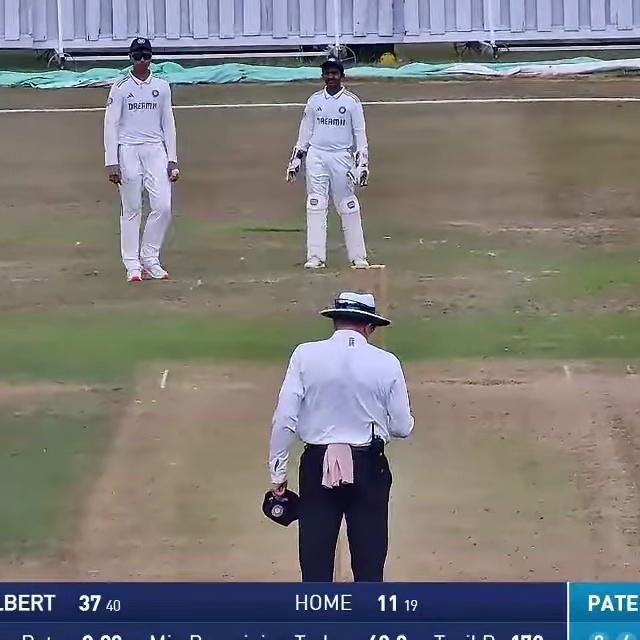umpire: (252, 281, 432, 586)
